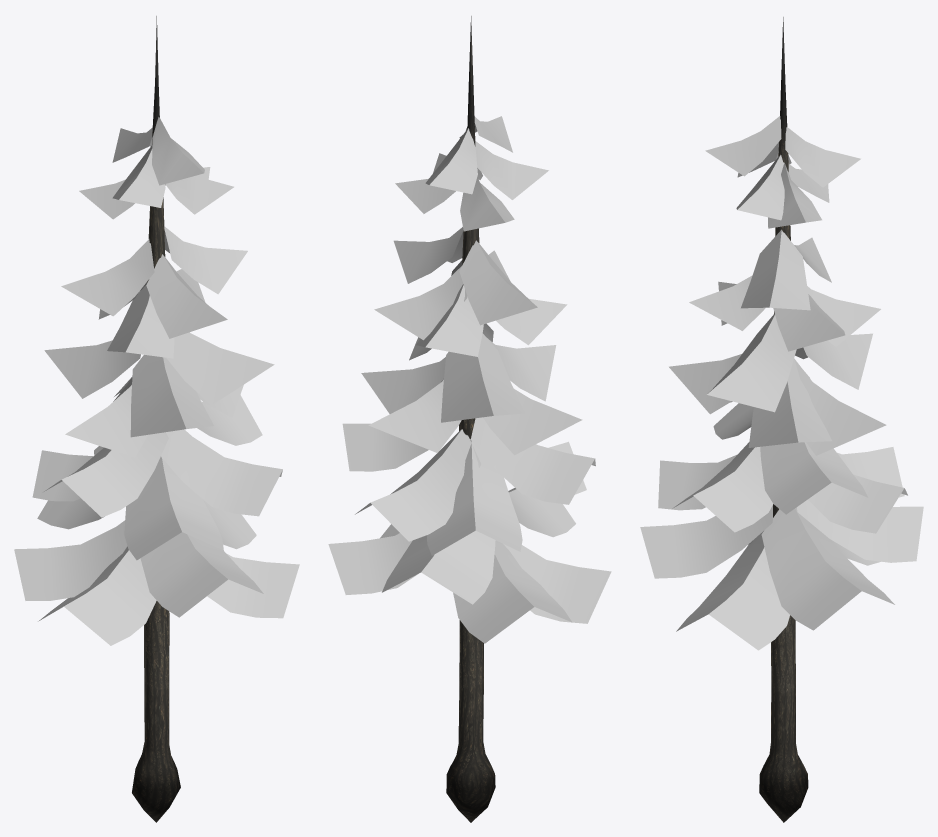
File: MSH_Tree_Spruce_01.fbx
The picture shows the model from 3 angles, left to right: view 1: azimuth 30°, elevation 25°; view 2: azimuth 150°, elevation 25°; view 3: azimuth 270°, elevation 25°; orthographic projection.
Visible parts, largest first — view 1: MSH_Tree_Spruce_01_LOD0; view 2: MSH_Tree_Spruce_01_LOD0; view 3: MSH_Tree_Spruce_01_LOD0.
Part boxes in pixels (bbox=[...]): MSH_Tree_Spruce_01_LOD0: bbox=[14, 16, 299, 822]; MSH_Tree_Spruce_01_LOD0: bbox=[328, 16, 611, 822]; MSH_Tree_Spruce_01_LOD0: bbox=[640, 17, 923, 822].
Size of what is drawn, in the model's own units: 349 by 1147 by 364.
